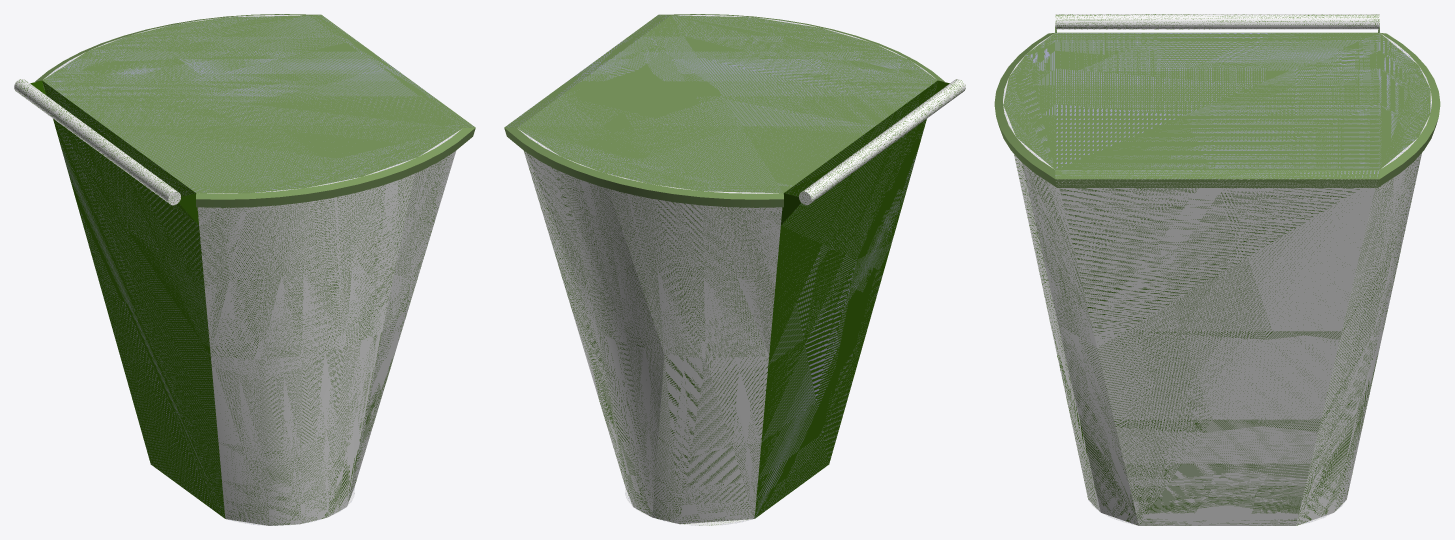
Rendered from green_pyramid.dae.
The picture shows the model from 3 angles, left to right: view 1: azimuth 30°, elevation 25°; view 2: azimuth 150°, elevation 25°; view 3: azimuth 270°, elevation 25°; orthographic projection. The views are drawn at different scales.
Parts seen in each view (by area): view 1: Trash_Can (×5); view 2: Trash_Can (×5); view 3: Trash_Can (×5).
Part boxes in pixels (x1,y1,x2,y2): Trash_Can (×5): (14, 14, 475, 525); Trash_Can (×5): (504, 14, 965, 524); Trash_Can (×5): (994, 14, 1440, 525).
Size of the model in its own units: 35.72 by 42.6 by 41.99.
